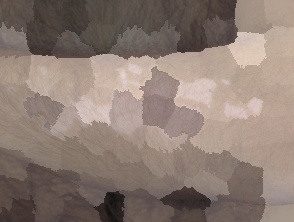vitiligo: (13, 48, 274, 161)
